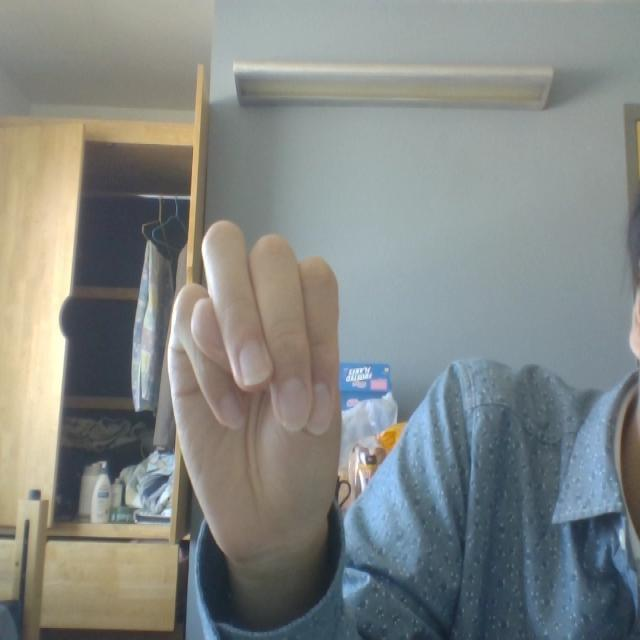M: (132, 183, 393, 574)
